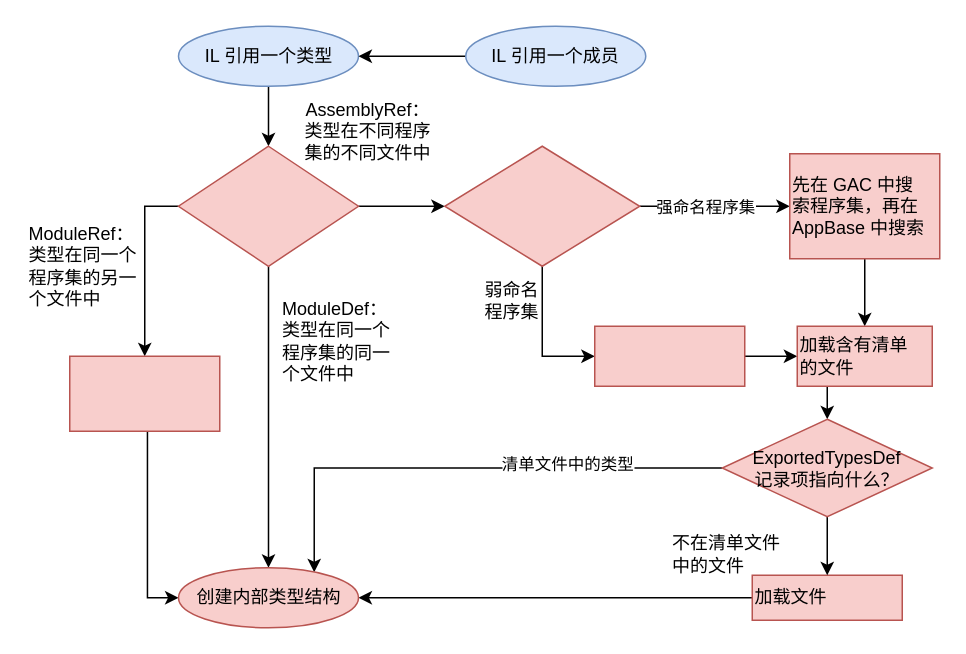
Some shapes in this 966 by 654 pixel diagram are drawn without their labels. Each missing label, with the centre of its shape:
AssemblyRef 记录项 指向什么？: the point at 541,205
TypeRef 记录项 指向什么？: the point at 267,205
在AppBase中搜 索程序集: the point at 669,355
检查 ModuleRef 表并加载恰当 的文件: the point at 144,393
